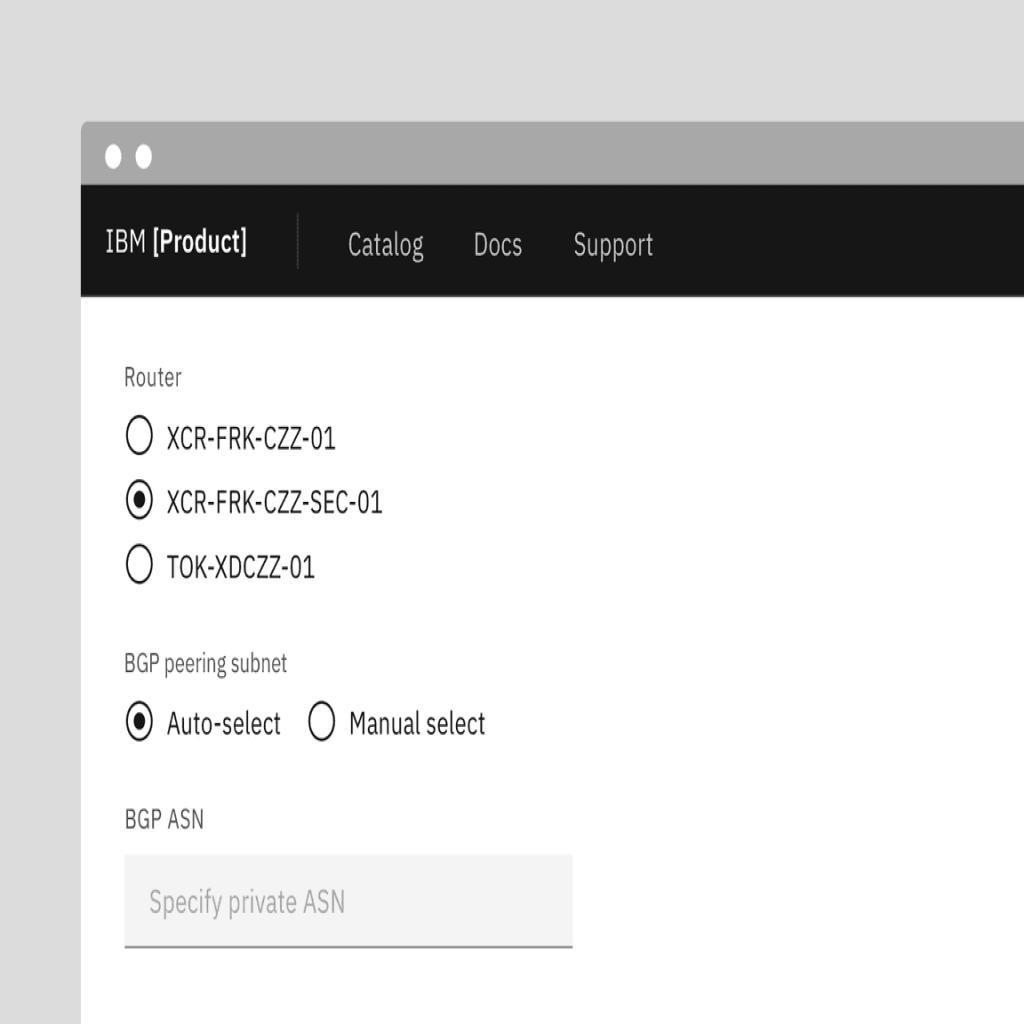input: (124, 851, 577, 949)
radio: (115, 688, 161, 756), (306, 692, 340, 754), (123, 536, 160, 588), (121, 412, 157, 463), (121, 472, 157, 519)
